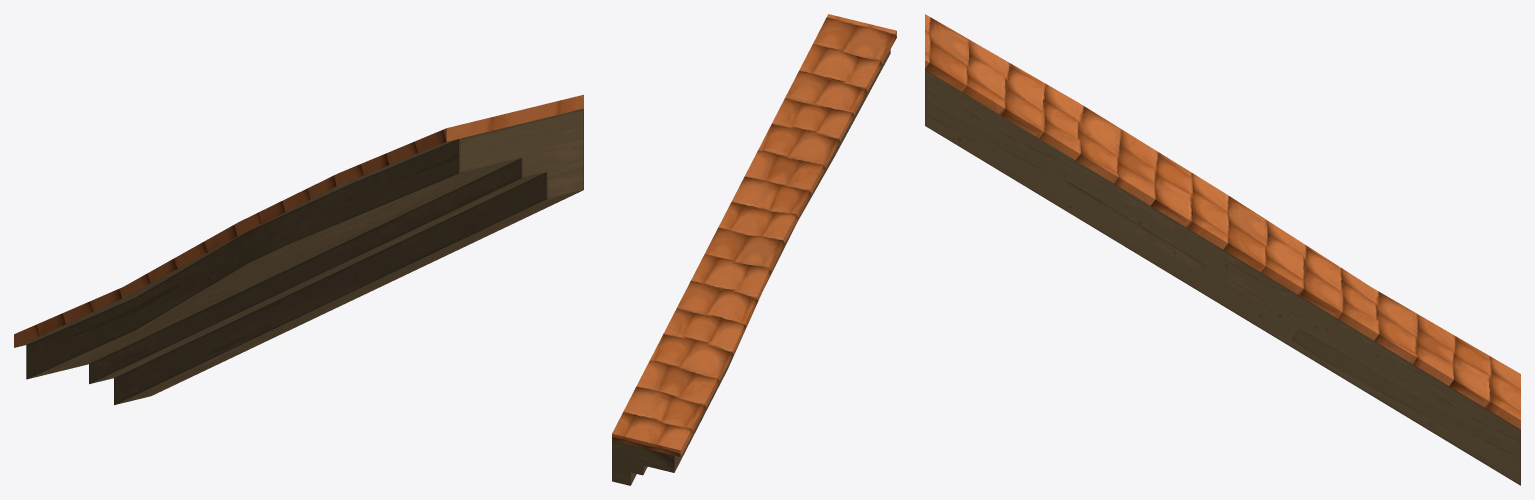
The model's file is SM_building_roof_10.glb.
3 renders of one model, left to right at view 1: azimuth 30°, elevation 25°; view 2: azimuth 150°, elevation 25°; view 3: azimuth 270°, elevation 25°, orthographic. The views are drawn at different scales.
Parts seen in each view (by area): view 1: SM_building_roof_10; view 2: SM_building_roof_10; view 3: SM_building_roof_10.
Boxes of the visible parts, x1,y1,x2,y2 form: SM_building_roof_10: (14, 94, 583, 405); SM_building_roof_10: (612, 14, 896, 485); SM_building_roof_10: (925, 14, 1520, 485).
Bounding box in the file's own units: 1.1 × 4.73 × 6.
2 materials, 2 textured.
